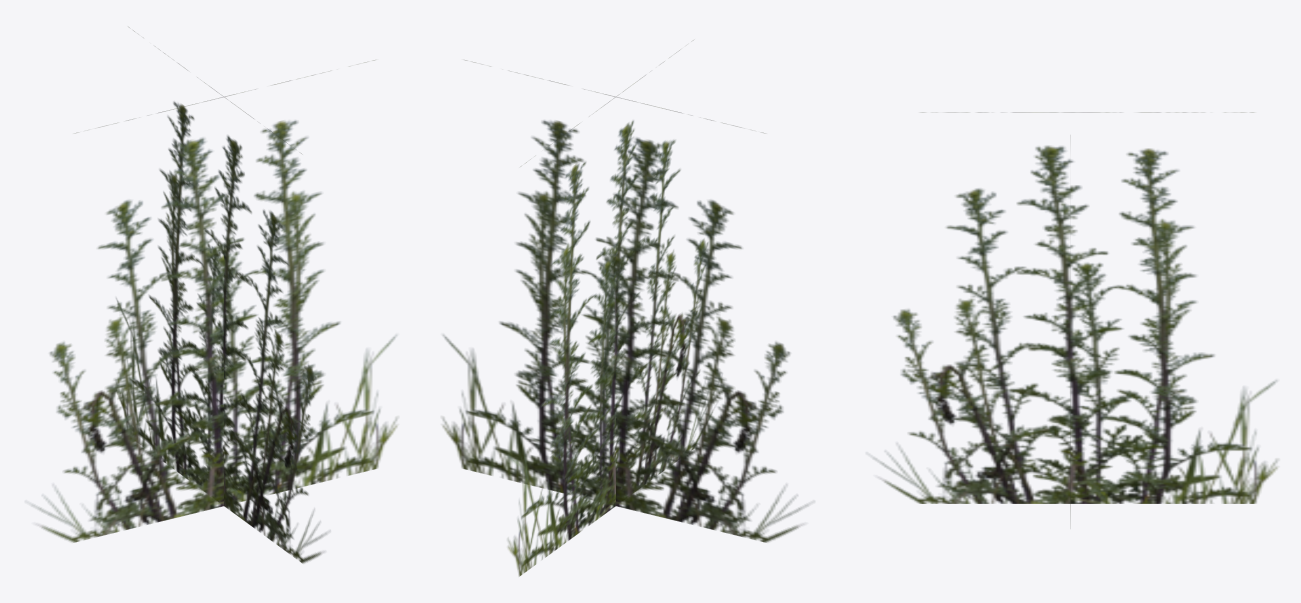
The model's file is weed1.glb.
3 views of the same model, side by side, from view 1: azimuth 30°, elevation 25°; view 2: azimuth 150°, elevation 25°; view 3: azimuth 270°, elevation 25° (orthographic). The views are drawn at different scales.
Visible parts, largest first — view 1: Plane.001; view 2: Plane.001; view 3: Plane.001.
Boxes of the visible parts, x1,y1,x2,y2 form: Plane.001: [27, 27, 397, 563]; Plane.001: [442, 50, 812, 576]; Plane.001: [869, 112, 1277, 520].
Size of the model in its own units: 5.47 by 5.47 by 5.47.
Materials: 1 (1 with a texture image).
